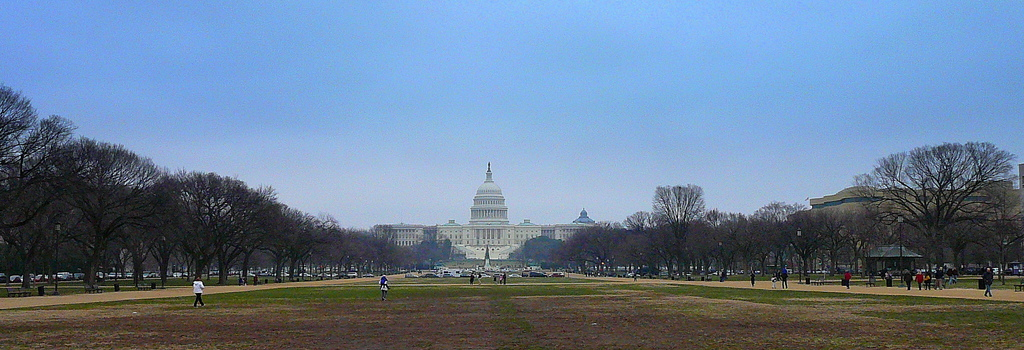Tree: (817, 133, 1008, 268), (41, 135, 171, 293), (232, 191, 421, 280), (121, 172, 254, 294), (0, 85, 72, 291), (708, 198, 873, 284), (886, 209, 1023, 268), (650, 182, 709, 277), (618, 206, 670, 280), (547, 224, 615, 278), (511, 233, 574, 264), (414, 228, 451, 270)
